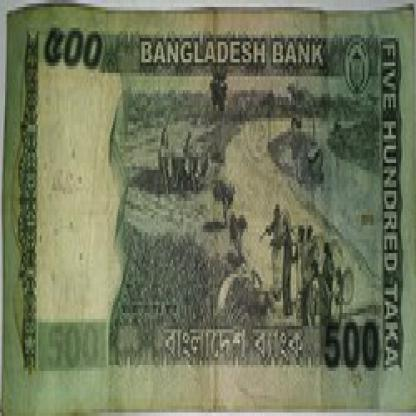500 taka: (38, 20, 125, 86)
currency: (7, 11, 414, 402)
